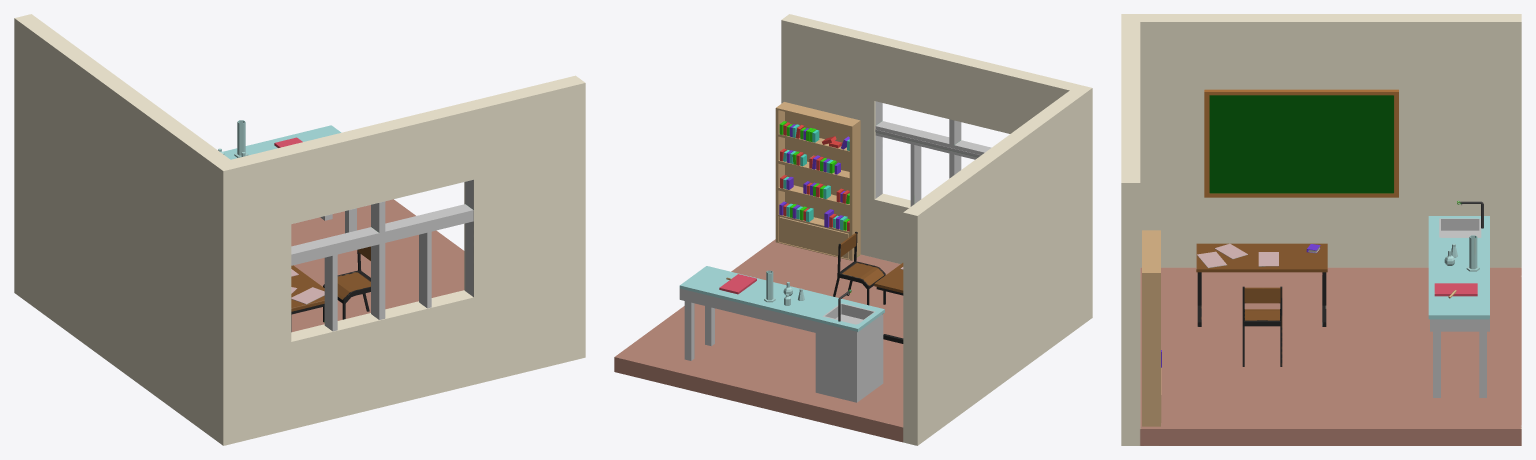
Rendered from Lill1.fbx.
3 views of the same model, side by side, from view 1: azimuth 30°, elevation 25°; view 2: azimuth 150°, elevation 25°; view 3: azimuth 270°, elevation 25° (orthographic). The views are drawn at different scales.
Parts seen in each view (by area): view 1: Room.Baked; view 2: Room.Baked; view 3: Room.Baked.
Boxes of the visible parts, bbox=[...] form: Room.Baked: bbox=[14, 14, 585, 445]; Room.Baked: bbox=[614, 14, 1092, 445]; Room.Baked: bbox=[1121, 14, 1521, 445].
Size of the model in its own units: 1471 by 1067 by 1471.
1 material, 1 textured.
